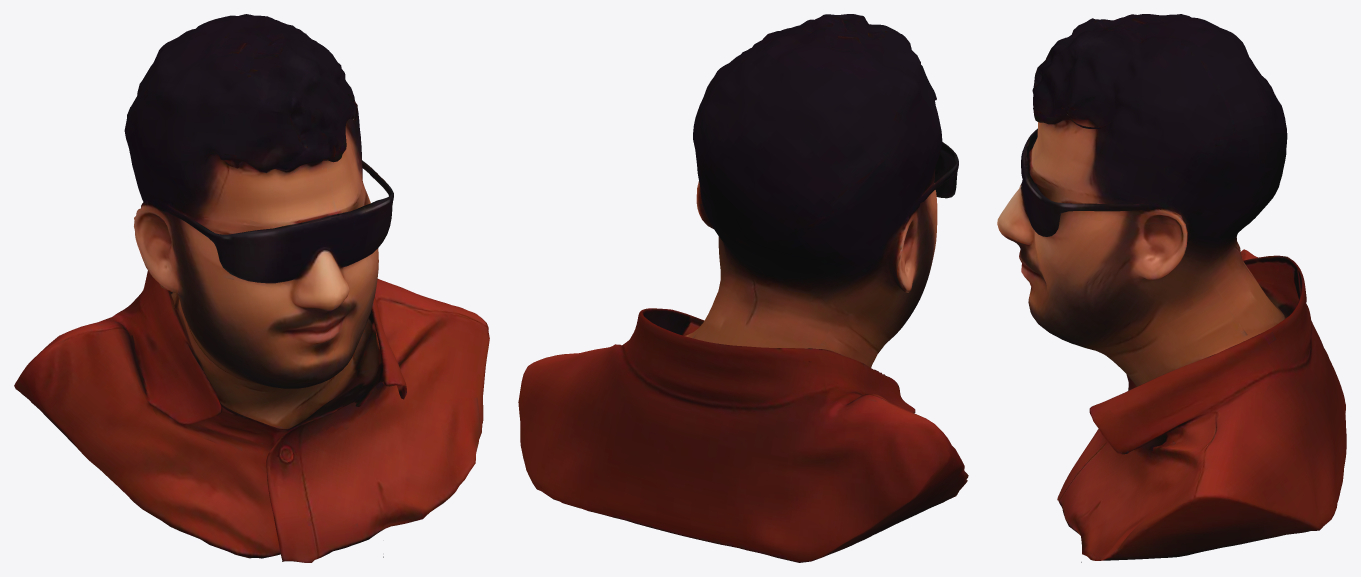
The model's file is rishihero.glb.
The picture shows the model from 3 angles, left to right: view 1: azimuth 30°, elevation 25°; view 2: azimuth 150°, elevation 25°; view 3: azimuth 270°, elevation 25°; orthographic projection. The views are drawn at different scales.
Visible parts, largest first — view 1: model; view 2: model; view 3: model.
Boxes of the visible parts, bbox=[...] form: model: bbox=[14, 14, 489, 562]; model: bbox=[518, 14, 968, 562]; model: bbox=[997, 14, 1346, 562].
Size of the model in its own units: 1.66 by 1.89 by 1.21.
1 material, 1 textured.
